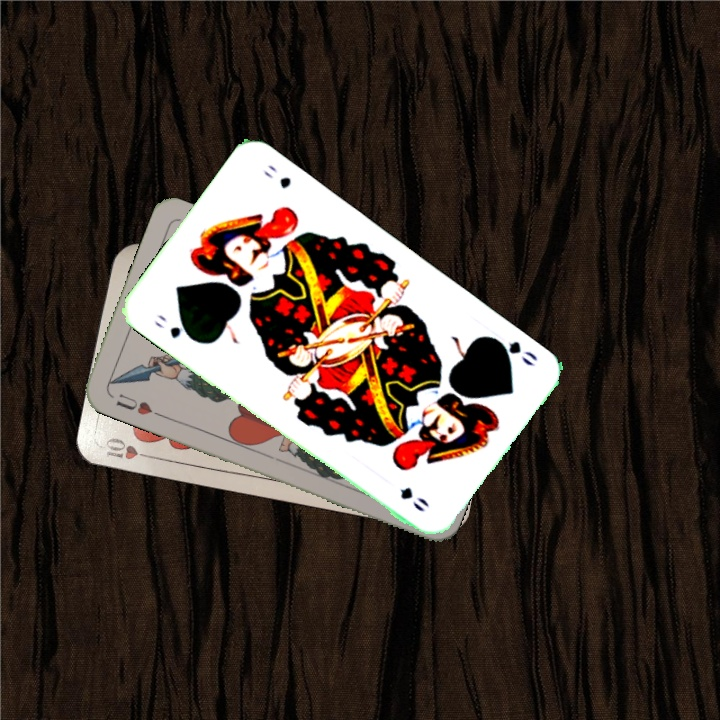GO: (487, 333, 540, 370), (151, 310, 198, 344)
H10: (99, 433, 158, 463)
HU: (112, 389, 164, 419)
